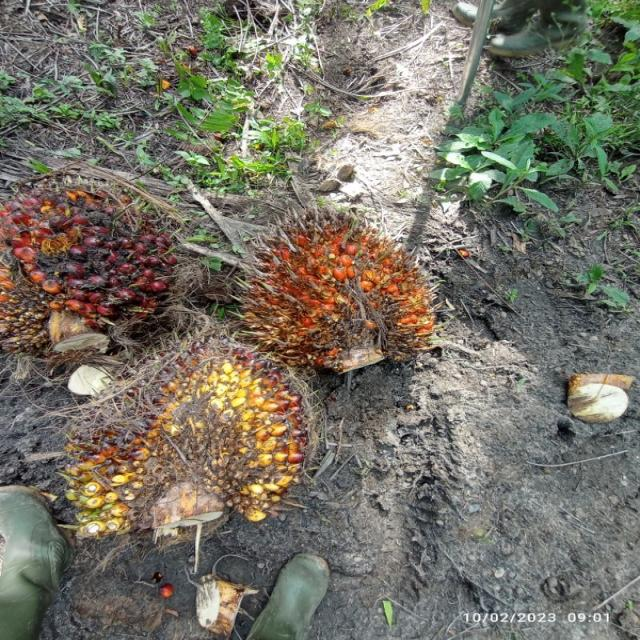fraksi 00: (14, 310, 356, 546)
fraksi 3: (0, 182, 190, 370)
fraksi 4: (203, 165, 496, 391)
